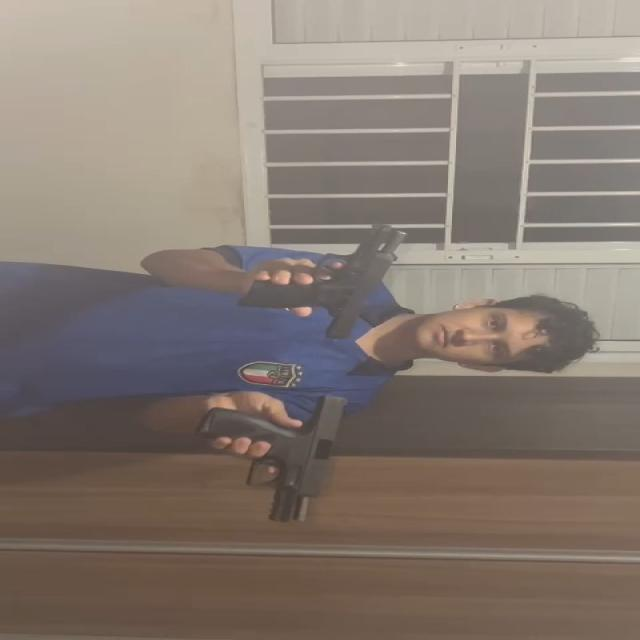guns: (233, 222, 407, 336), (208, 392, 352, 520)
